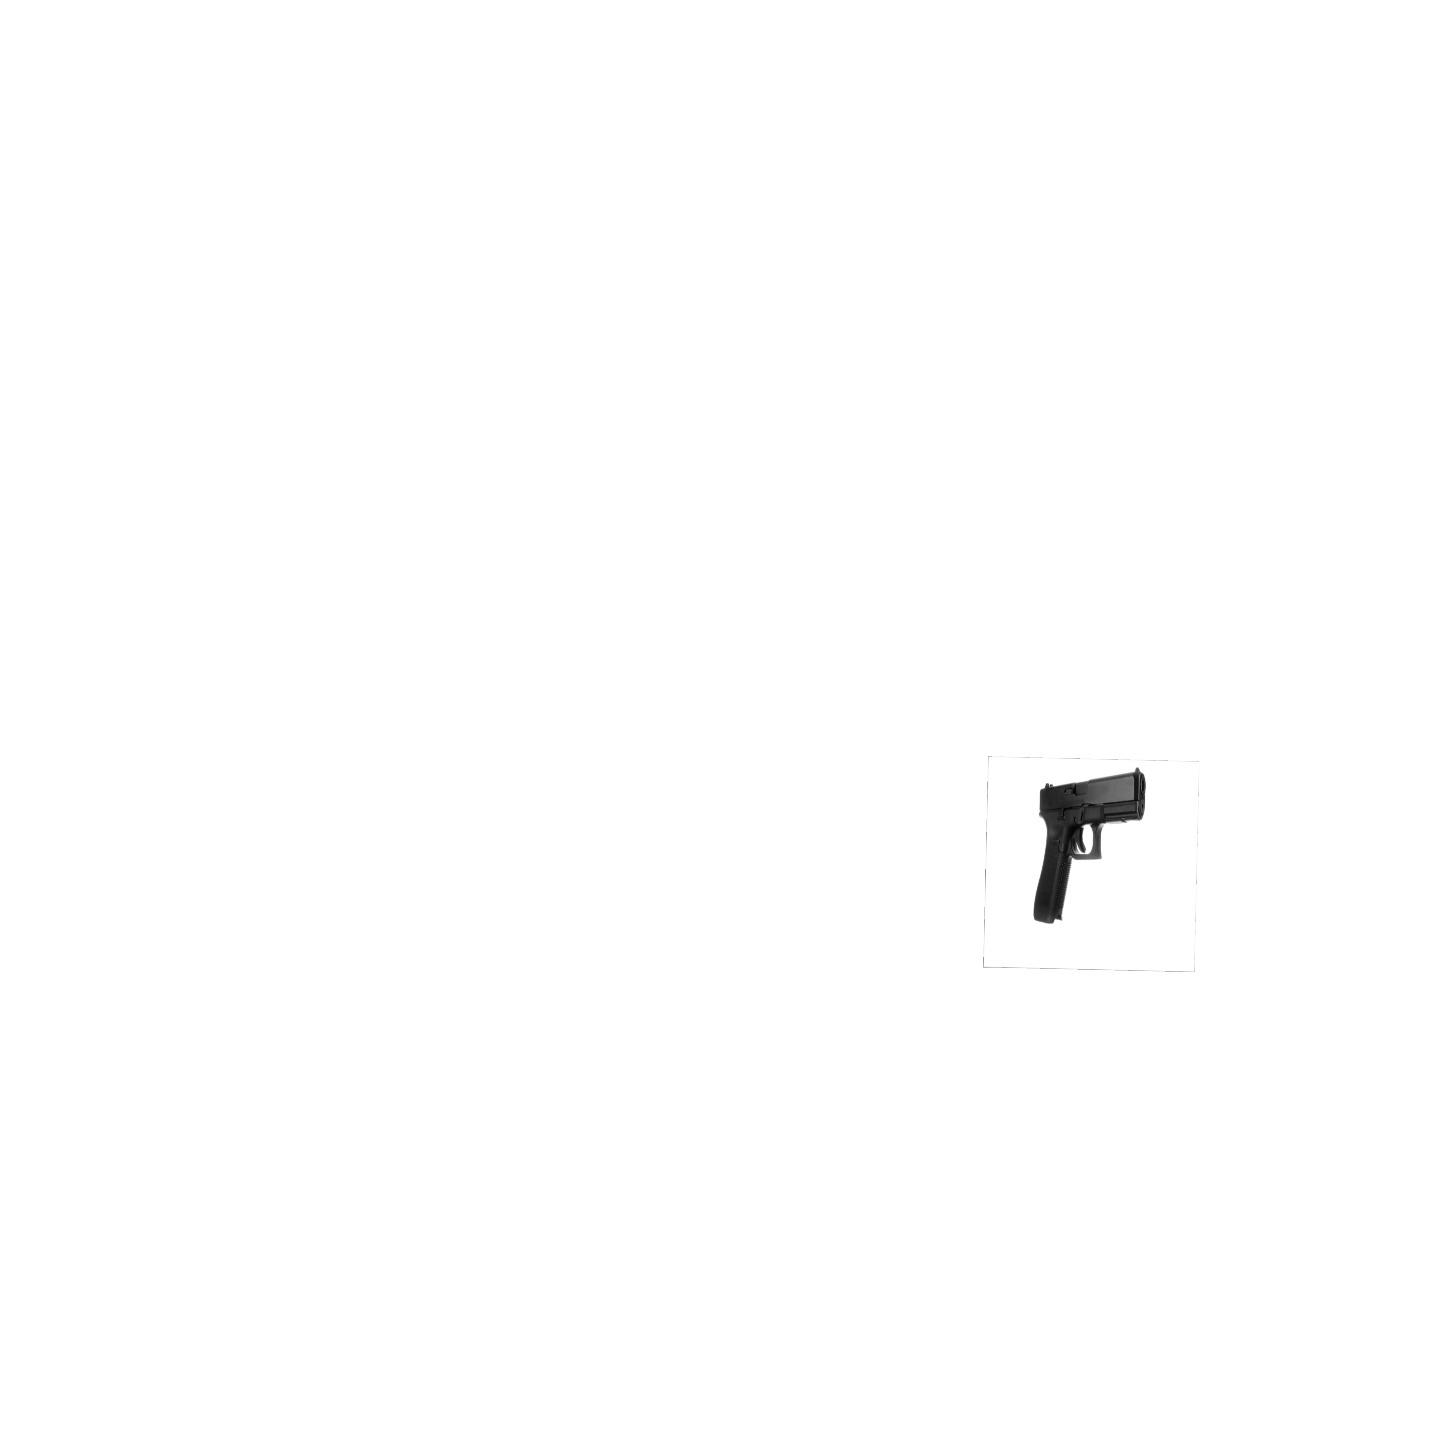gun: (1032, 766, 1146, 924)
